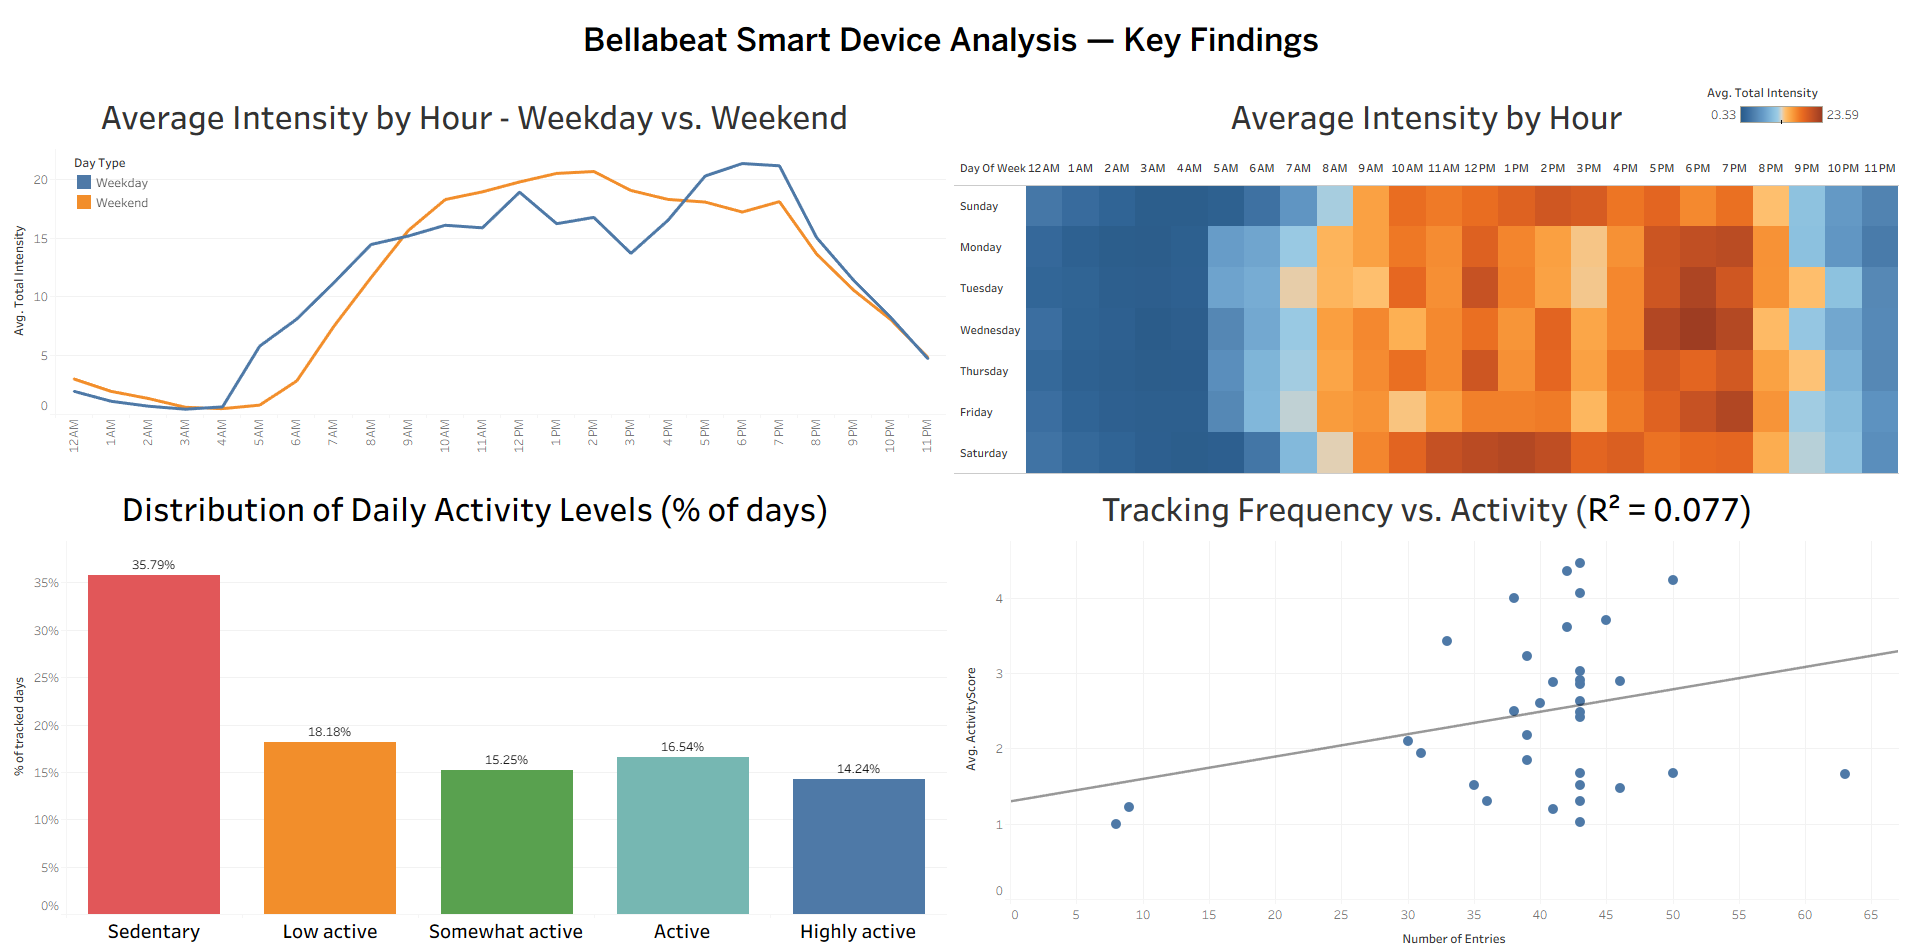

The dashboard page shown, as its layout file describes it:
{"tool":"tableau","page":{"name":"Dashboard 1","canvas":[1000,1000],"units":"permille","ordinal":0},"visuals":[{"type":"text","box":[4.7,8.9,990.6,92.5]},{"type":"legend","title":"Sheet 1","param":"[federated.0ryzv2q1mgidpz1f21lup1uowt3k].[avg:TotalIntensity:qk]","box":[893.5,99.3,81.9,84.8]},{"type":"worksheet","title":"Sheet 2","mark":"Line","rows":["TotalIntensity"],"cols":["Calculation_1637226892455940"],"box":[4.7,101.5,495,399.9]},{"type":"worksheet","title":"Sheet 1","mark":"Automatic","rows":["DayOfWeek"],"cols":["Calculation_1637226892455940"],"box":[499.7,101.5,495.7,399.9]},{"type":"legend","title":"Sheet 2","param":"[federated.0ryzv2q1mgidpz1f21lup1uowt3k].[none:DayType:nk]","box":[43.3,170.8,81.9,64.7]},{"type":"worksheet","title":"Sheet 4","mark":"Automatic","rows":["Id (dailyActivity_combined - dailyActivity_combined.csv)"],"cols":["ActivityLevel"],"box":[4.7,501.4,495.2,489.7]},{"type":"worksheet","title":"Sheet 3","mark":"Circle","rows":["Calculation_1012429104283655"],"cols":["Id (dailyActivity_combined - dailyActivity_combined.csv)"],"box":[499.9,501.4,495.4,489.7]}]}

Visuals, with their boxes on the dashboard's canvas, which has no fixed pixel size, in thousandths of its width and height (x1, y1, x2, y2). These are canvas units, not pixel positions in the 1909x951 screenshot, which may show the page scaled, cropped or inside an application window:
text: (left=5, top=9, right=995, bottom=101)
"Sheet 1" legend: (left=894, top=99, right=975, bottom=184)
"Sheet 2" worksheet (Line marks): (left=5, top=102, right=500, bottom=501)
"Sheet 1" worksheet: (left=500, top=102, right=995, bottom=501)
"Sheet 2" legend: (left=43, top=171, right=125, bottom=236)
"Sheet 4" worksheet: (left=5, top=501, right=500, bottom=991)
"Sheet 3" worksheet (Circle marks): (left=500, top=501, right=995, bottom=991)
